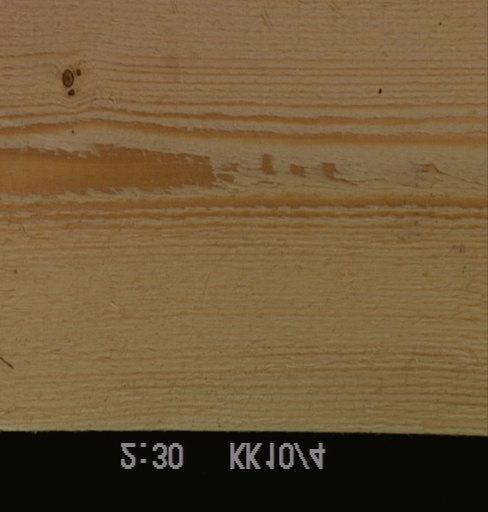dry_knot: (60, 63, 82, 101)
